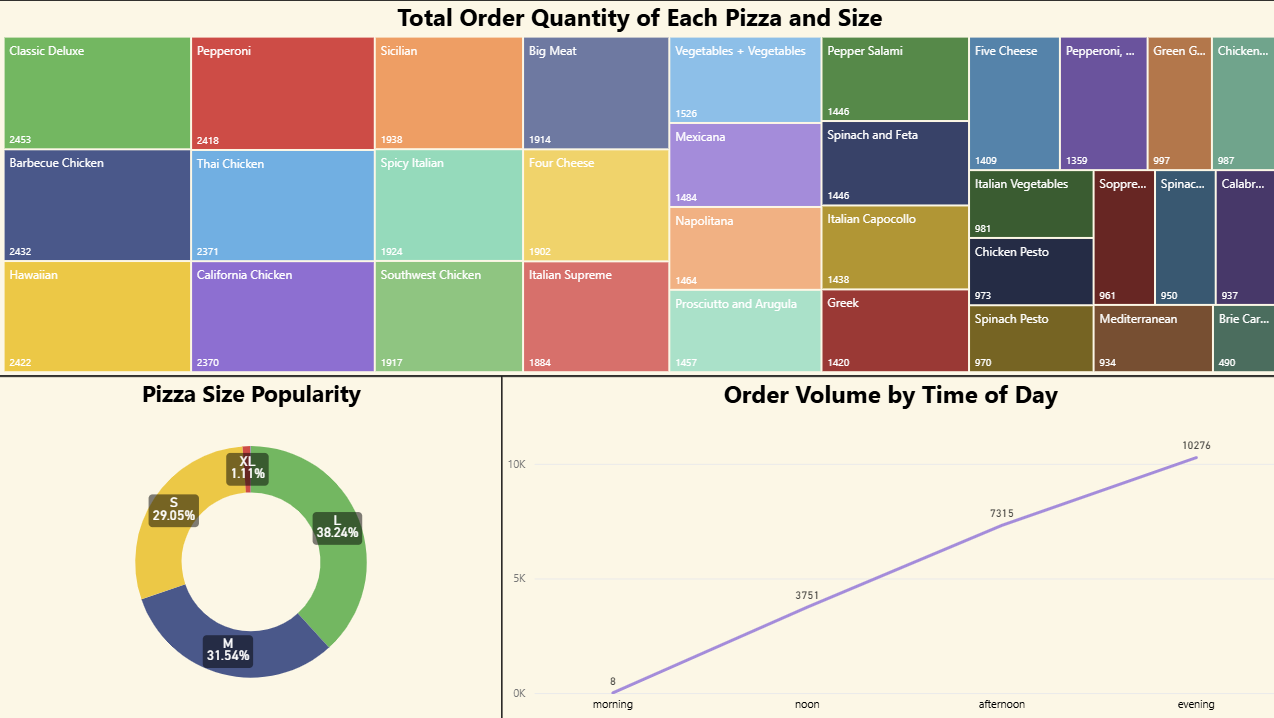

The page's visual inventory and layout, read from the dashboard file:
{"tool":"powerbi","page":{"name":"popularity","canvas":[1280,720],"ordinal":1},"visuals":[{"type":"treemap","title":"Total Order Quantity of Each Pizza and Size","fields":{"Group":["popular_pizza_and_size.pizza_name - Copy","popular_pizza_and_size.pizza_size"],"Values":["Sum(popular_pizza_and_size.quantity_ordered)"]},"box":[0,0,1280,375.7],"z":0},{"type":"donutChart","title":"Pizza Size Popularity","fields":{"Category":["popular_sizes_and_average_price_of_each.pizza_size"],"Y":["Sum(popular_sizes_and_average_price_of_each.quantity_ordered)"]},"box":[0,375.7,502.9,344.3],"z":1000},{"type":"lineChart","title":"Order Volume by Time of Day","fields":{"Category":["amount_of_orders_by_part_of_day.order_time_bin"],"Y":["Sum(amount_of_orders_by_part_of_day.amount_of_orders)"]},"box":[503,376,777,344],"z":2000}]}

Visuals, with their boxes in screenshot pixels (x1, y1, x2, y2), scaled from the page's 1280x720 canvas onto the 1274x718 screenshot:
"Total Order Quantity of Each Pizza and Size" treemap: 0,0,1273,375
"Pizza Size Popularity" donutChart: 0,375,501,717
"Order Volume by Time of Day" lineChart: 501,375,1273,717
